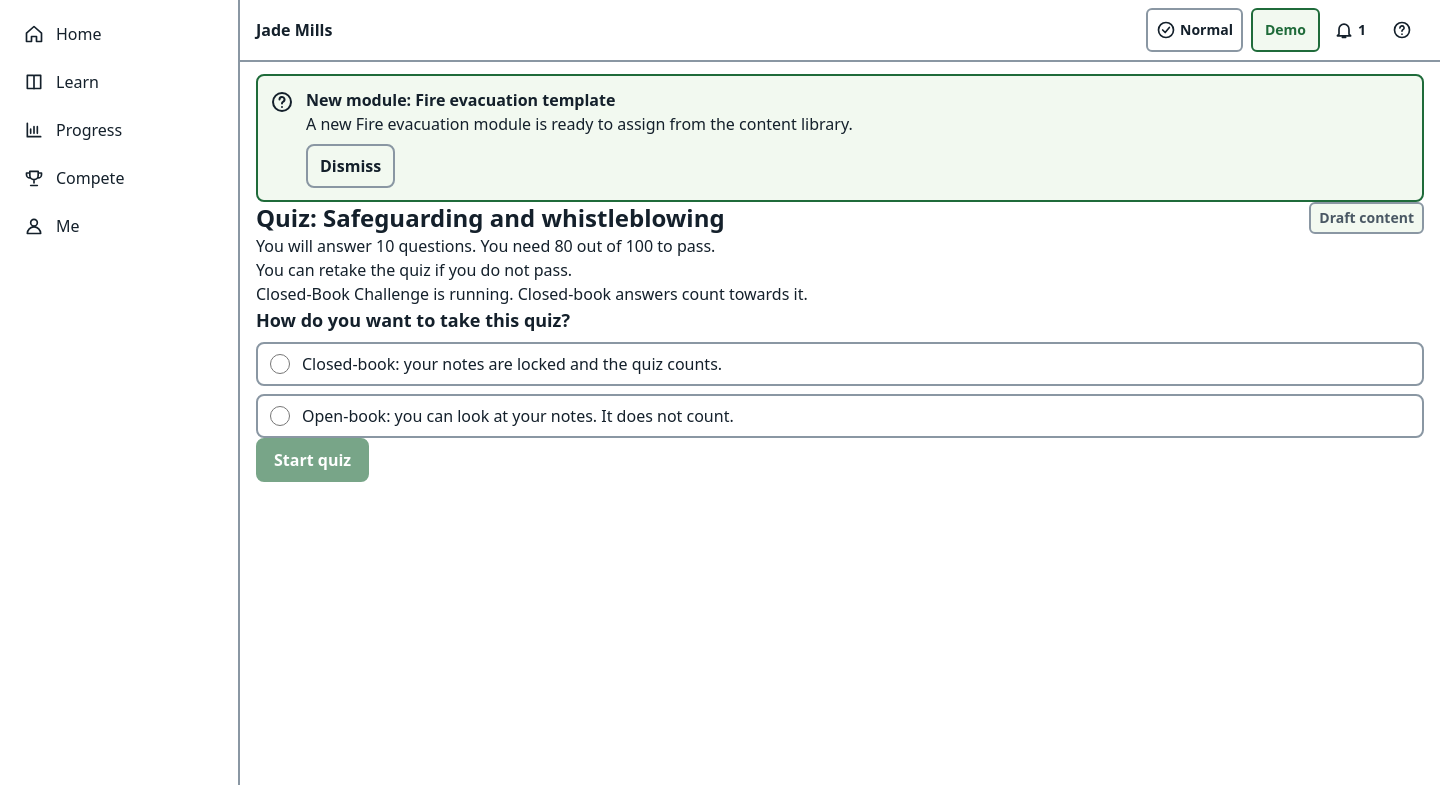
Test case: S6 closed-book choice and locked mode › choosing Open-book stores an open attempt with the notes control available
Click the radio button labelled "Open-book: you can look at your notes. It does not count." at (280, 416), box [270, 406, 290, 426]
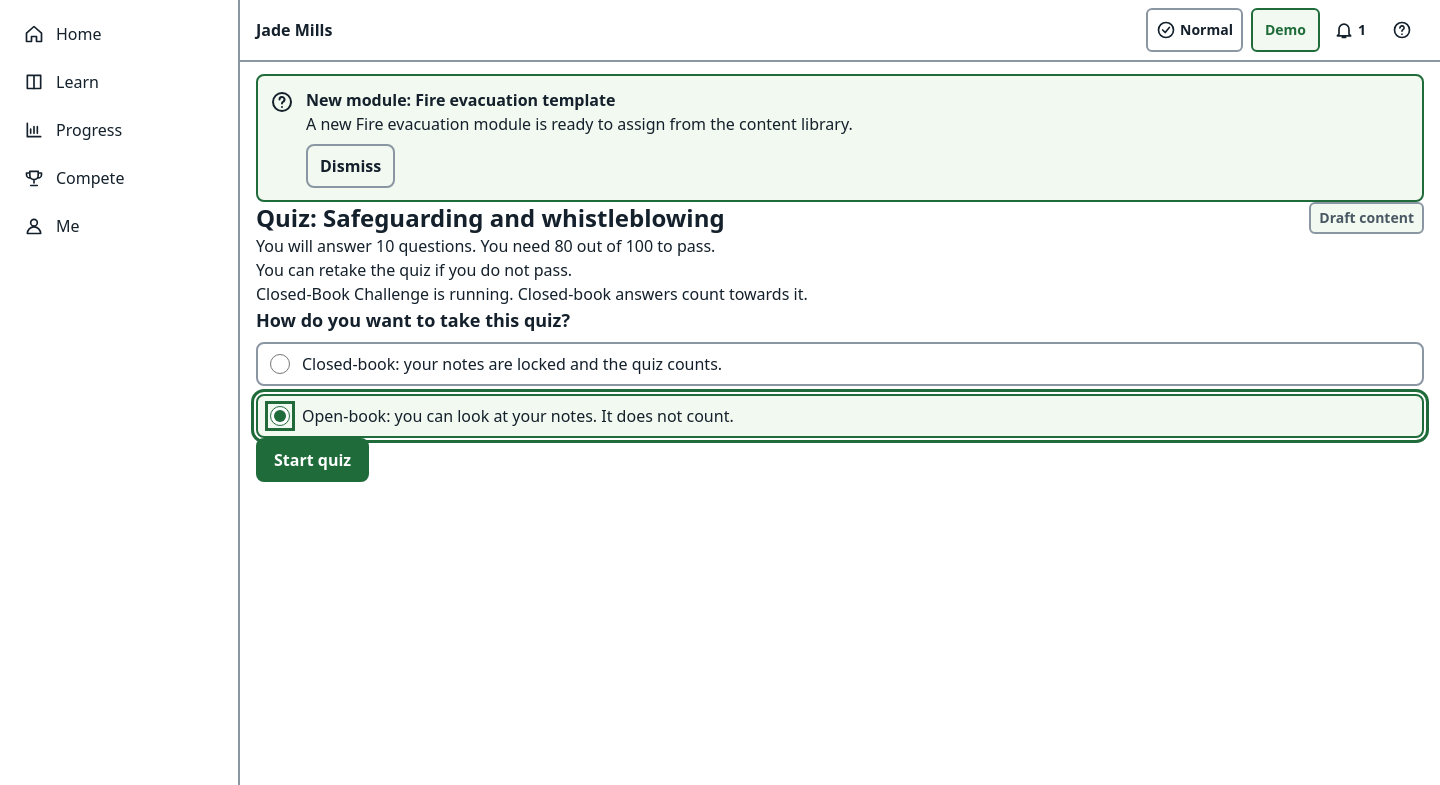
Click the button "Start quiz" at (313, 460), box [256, 438, 369, 482]
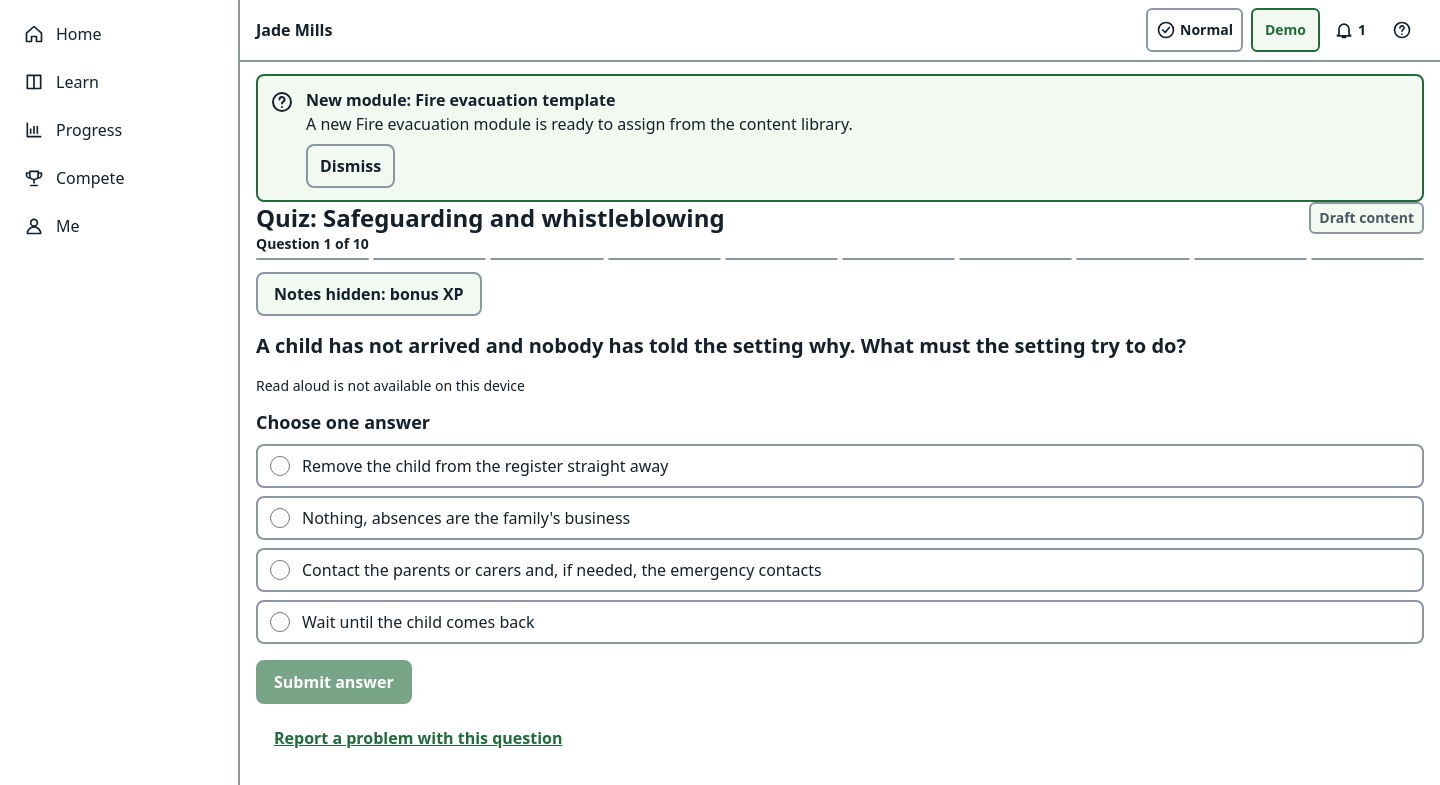
Now the button "Notes hidden: bonus XP" is shown, box [256, 272, 482, 316]
